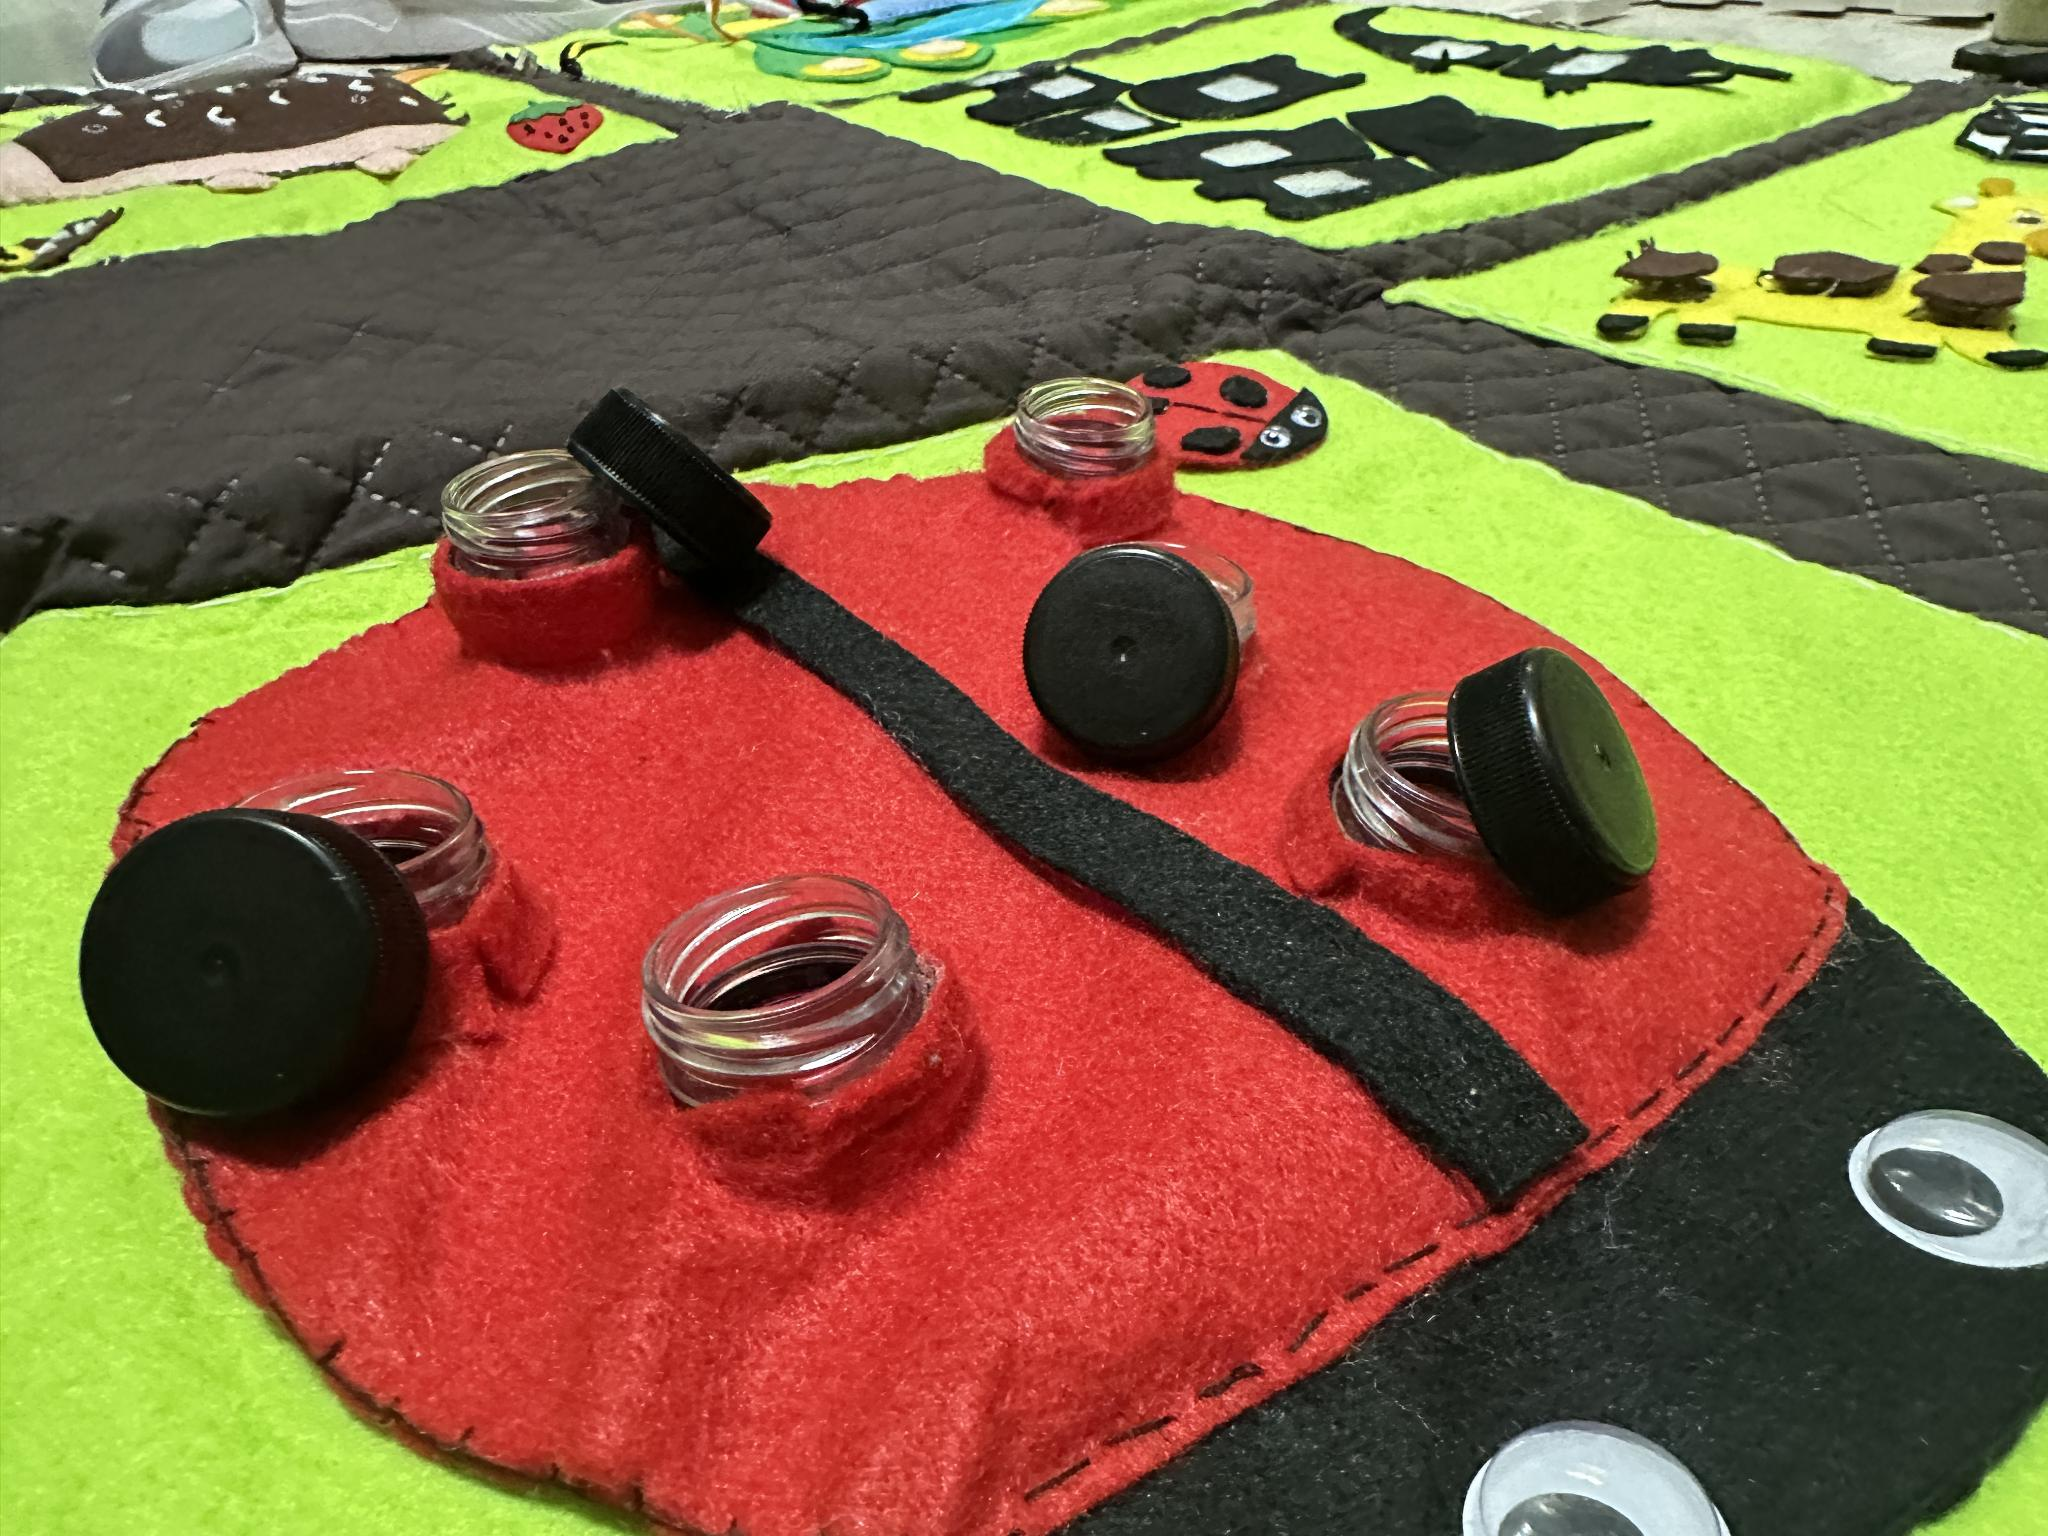cap_ng: (69, 724, 543, 1160), (411, 378, 771, 682), (1314, 641, 1667, 939), (1005, 528, 1266, 791)
